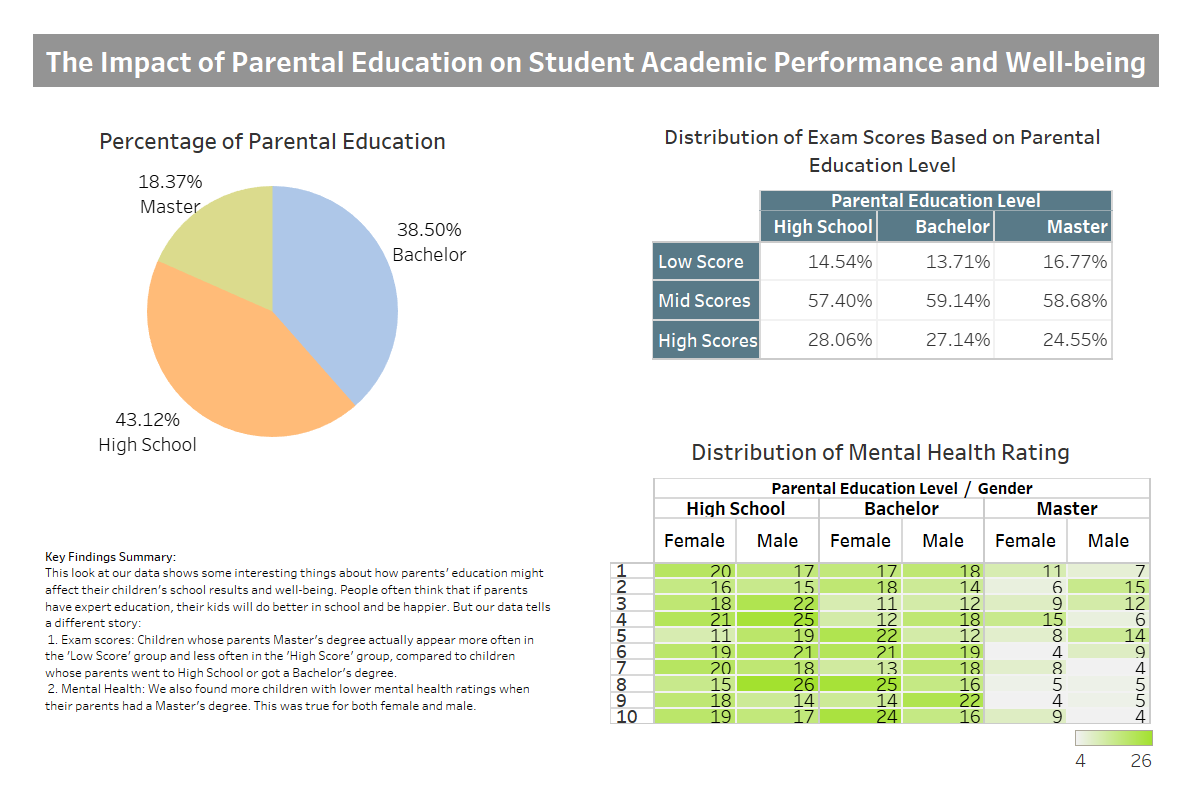

The dashboard page shown, as its layout file describes it:
{"tool":"tableau","page":{"name":"Dashboard","canvas":[1000,1000],"units":"permille","ordinal":0},"visuals":[{"type":"title","box":[7,11.3,986.1,86.3]},{"type":"worksheet","title":"Parental Education Level/Gender (2)","mark":"Automatic","rows":["Score_Category"],"cols":["parental_education_level"],"box":[547.8,126.3,401.7,318.4]},{"type":"worksheet","title":"Percentage of Parental Education","mark":"Pie","box":[20,130.3,397.4,442.1]},{"type":"worksheet","title":"Parental Education Level/Gender","mark":"Square","rows":["mental_health_rating"],"cols":["parental_education_level","gender"],"box":[511.3,539.2,471.3,385.1]},{"type":"text","box":[17.4,643.7,447,320.5]},{"type":"legend","title":"Parental Education Level/Gender","param":"[federated.038dfxo0lbry9x1dh63cz1p1ix3g].[ctd:student_id:qk]","box":[913,926.4,74.8,57.2]}]}

Visuals, with their boxes on the dashboard's canvas, which has no fixed pixel size, in thousandths of its width and height (x1, y1, x2, y2). These are canvas units, not pixel positions in the 1186x805 screenshot, which may show the page scaled, cropped or inside an application window:
title: bbox=[7, 11, 993, 98]
"Parental Education Level/Gender (2)" worksheet: bbox=[548, 126, 950, 445]
"Percentage of Parental Education" worksheet (Pie marks): bbox=[20, 130, 417, 572]
"Parental Education Level/Gender" worksheet (Square marks): bbox=[511, 539, 983, 924]
text: bbox=[17, 644, 464, 964]
"Parental Education Level/Gender" legend: bbox=[913, 926, 988, 984]
